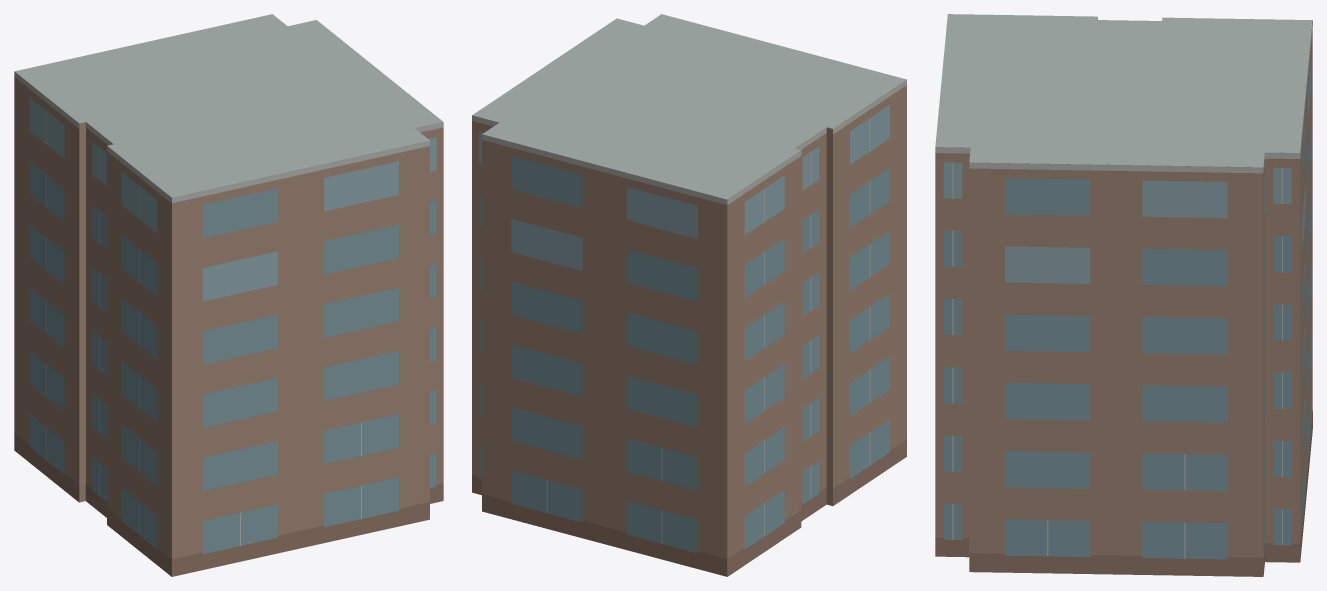
File: survey-upis-32663632.glb
3 renders of one model, left to right at view 1: azimuth 30°, elevation 25°; view 2: azimuth 150°, elevation 25°; view 3: azimuth 270°, elevation 25°, orthographic. The views are drawn at different scales.
Parts seen in each view (by area): view 1: survey-upis-32663632.tmp; view 2: survey-upis-32663632.tmp; view 3: survey-upis-32663632.tmp.
Part boxes in pixels (x1,y1,x2,y2): survey-upis-32663632.tmp: (14, 14, 443, 576); survey-upis-32663632.tmp: (472, 14, 906, 576); survey-upis-32663632.tmp: (935, 14, 1312, 576).
Bounding box in the file's own units: 13.34 × 16.6 × 13.87.
